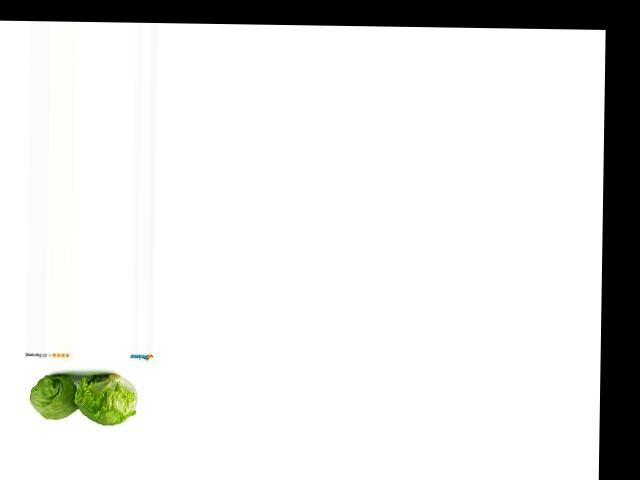lettuce: (27, 363, 92, 420)
